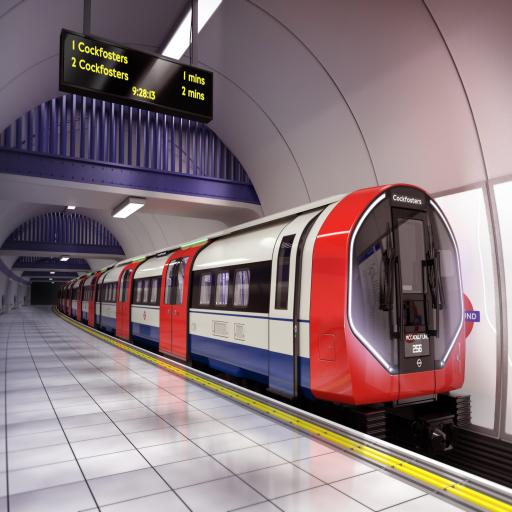platform_edge: (74, 324, 512, 511)
